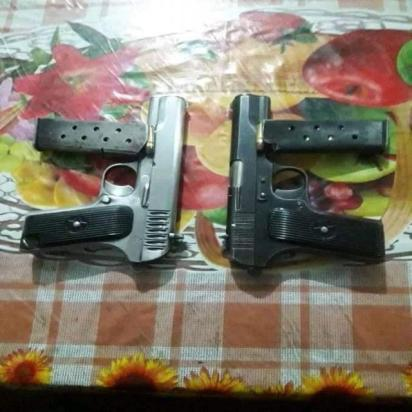Gun: (215, 92, 393, 278), (14, 93, 190, 266)
